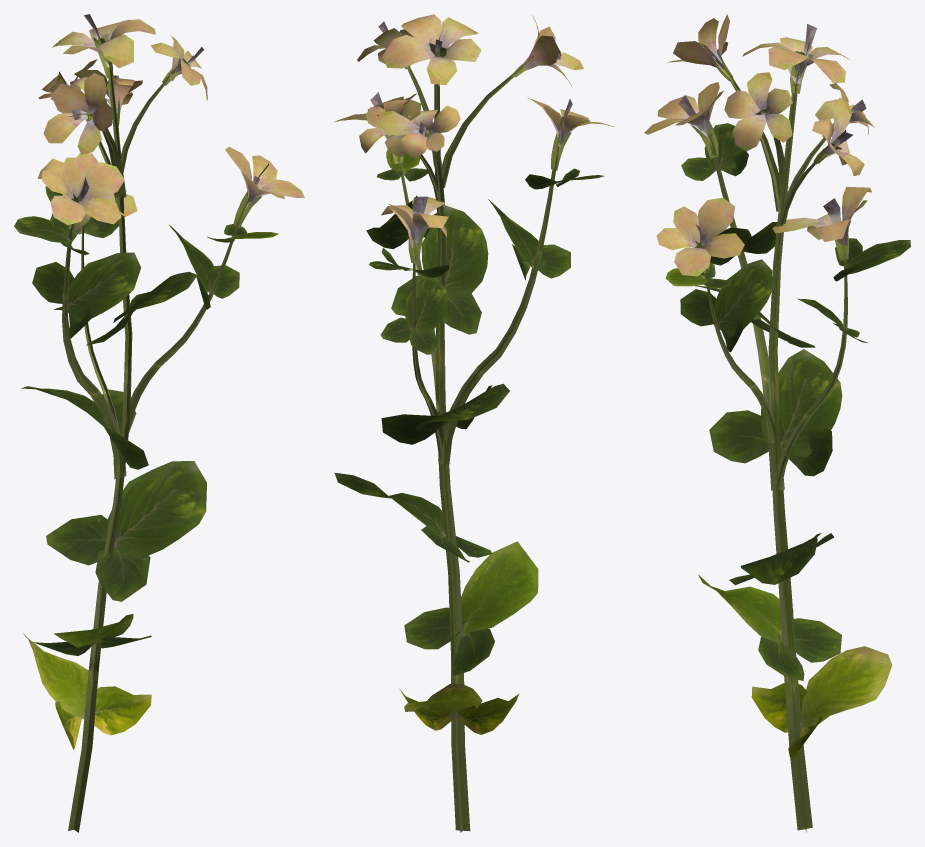
Rendered from Periwinkle_baby_short_yellowgreen.glb.
The picture shows the model from 3 angles, left to right: view 1: azimuth 30°, elevation 25°; view 2: azimuth 150°, elevation 25°; view 3: azimuth 270°, elevation 25°; orthographic projection.
Parts seen in each view (by area): view 1: _b868_Var1_LOD1; view 2: _b868_Var1_LOD1; view 3: _b868_Var1_LOD1.
Part boxes in pixels (x1=…): _b868_Var1_LOD1: x1=14, y1=14, x2=304, y2=832; _b868_Var1_LOD1: x1=334, y1=14, x2=614, y2=832; _b868_Var1_LOD1: x1=644, y1=14, x2=910, y2=832.
Bounding box in the file's own units: 0.5832 × 1.66 × 0.4917.
Materials: 1 (1 with a texture image).
